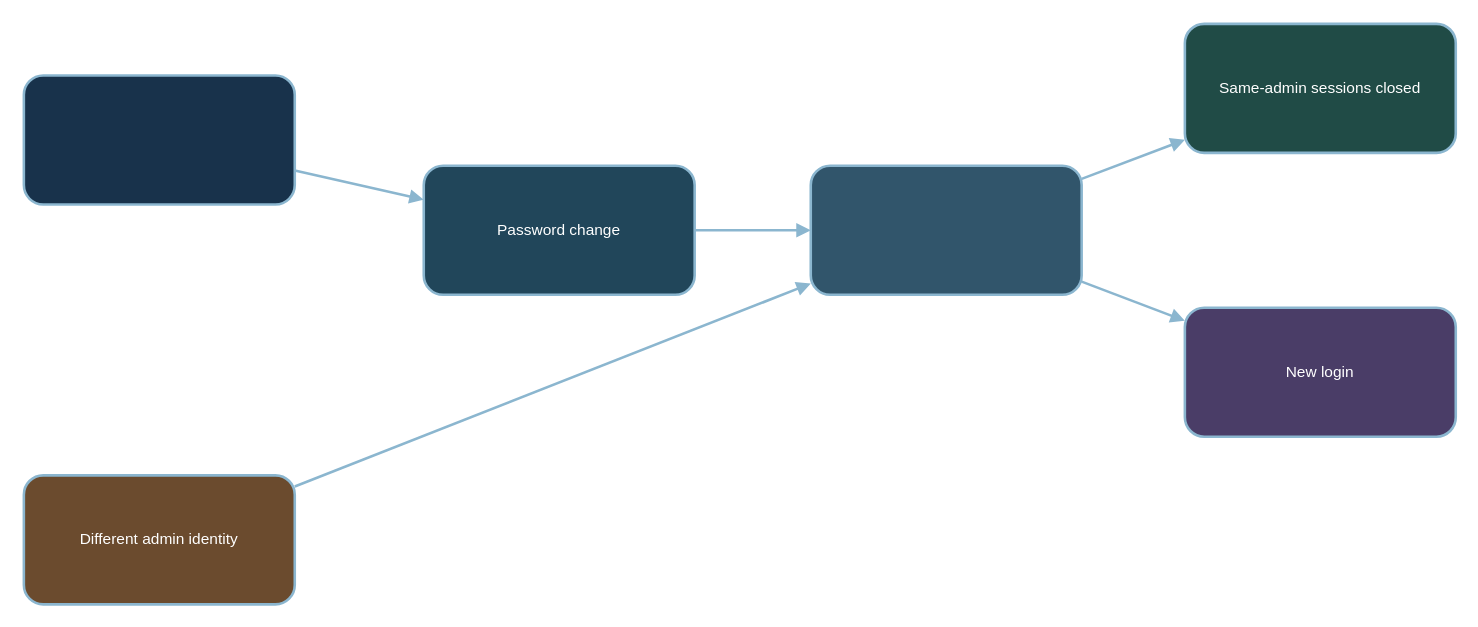
This 1478x627 diagram has some shape labels left out. Here are the shapes that lost their labels. From the top down, the centre of each, then its label:
At (158,139): "Admin session A".
At (945,229): "Credential store".
